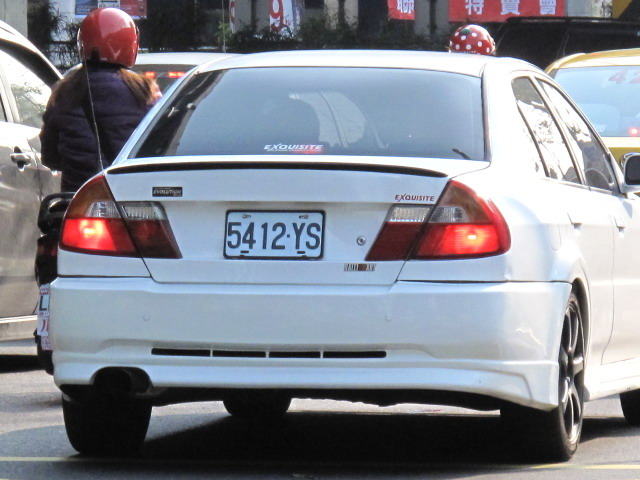plate: (222, 207, 326, 263)
